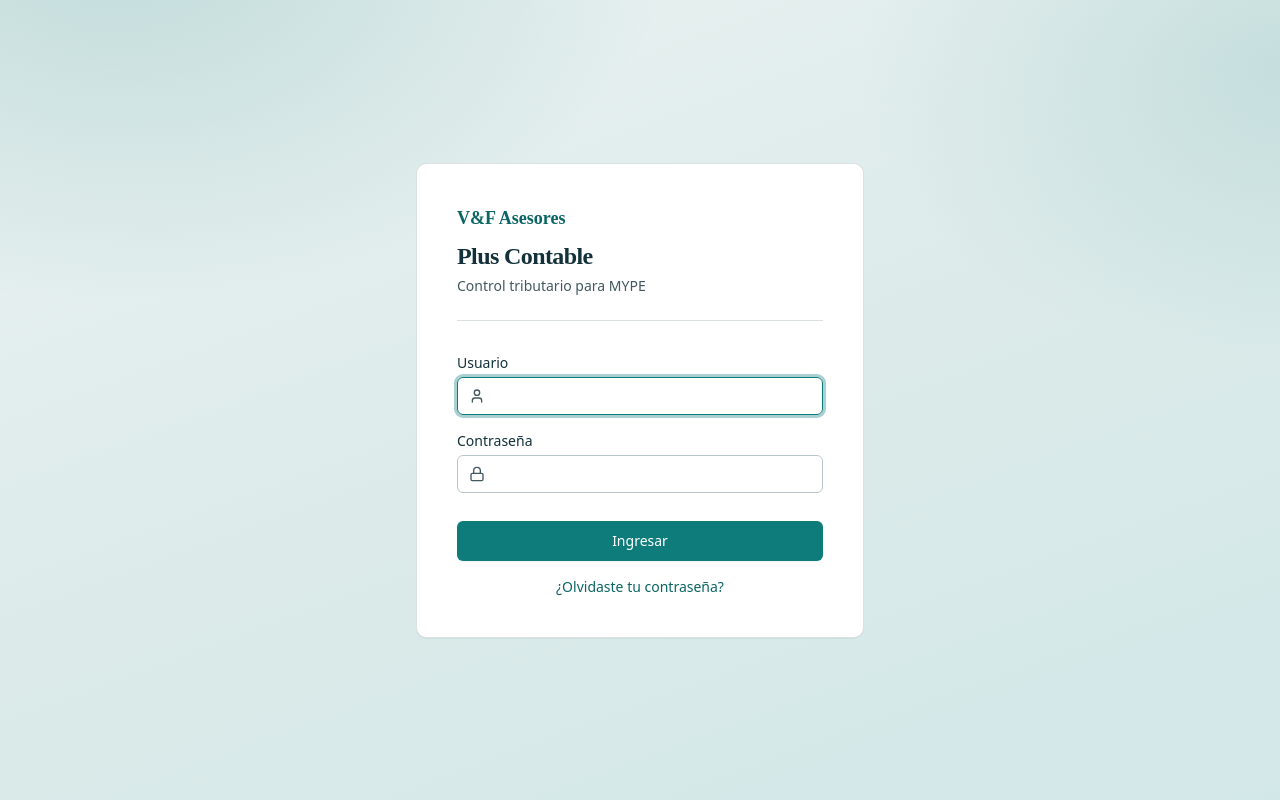
Test: el primer ingreso obliga a cambiar la contraseña (HU-37) › un ingreso con la temporal lleva a cambiar la contraseña
This screenshot has width=1280, height=800.
In the field labelled "Usuario": (640, 396) [457, 376, 823, 414], type "contacto@acme.pe"
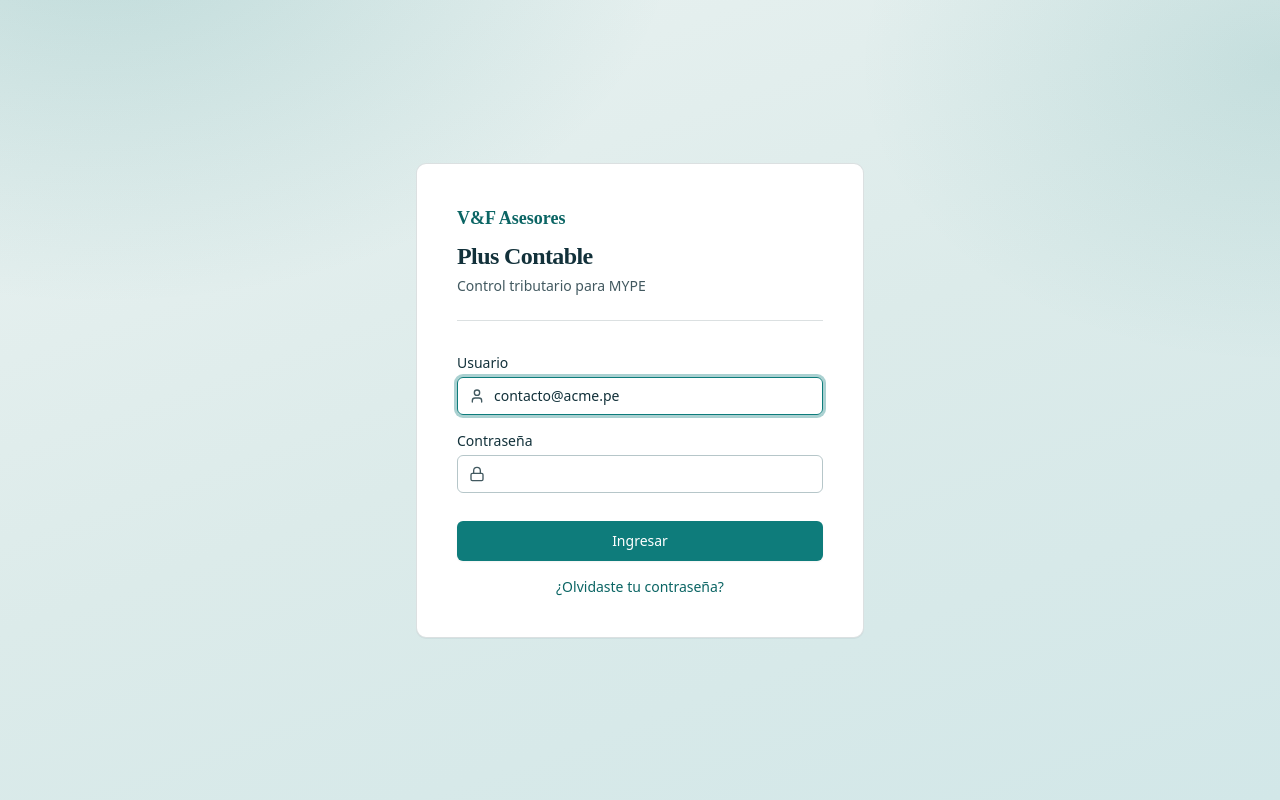
In the password field labelled "Contraseña": (640, 474) [457, 454, 823, 492], type "valor-temporal-ficticio"
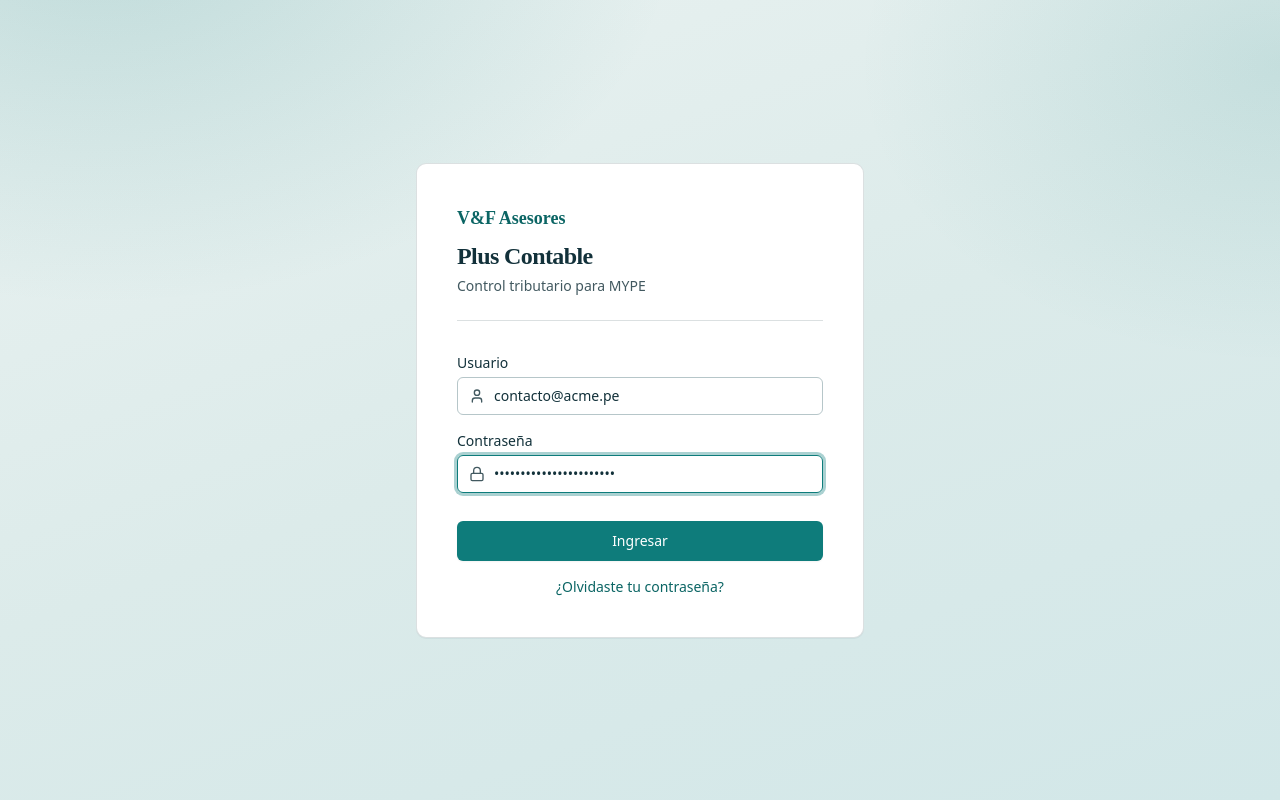
Click the button "Ingresar": (640, 540) [457, 520, 823, 560]
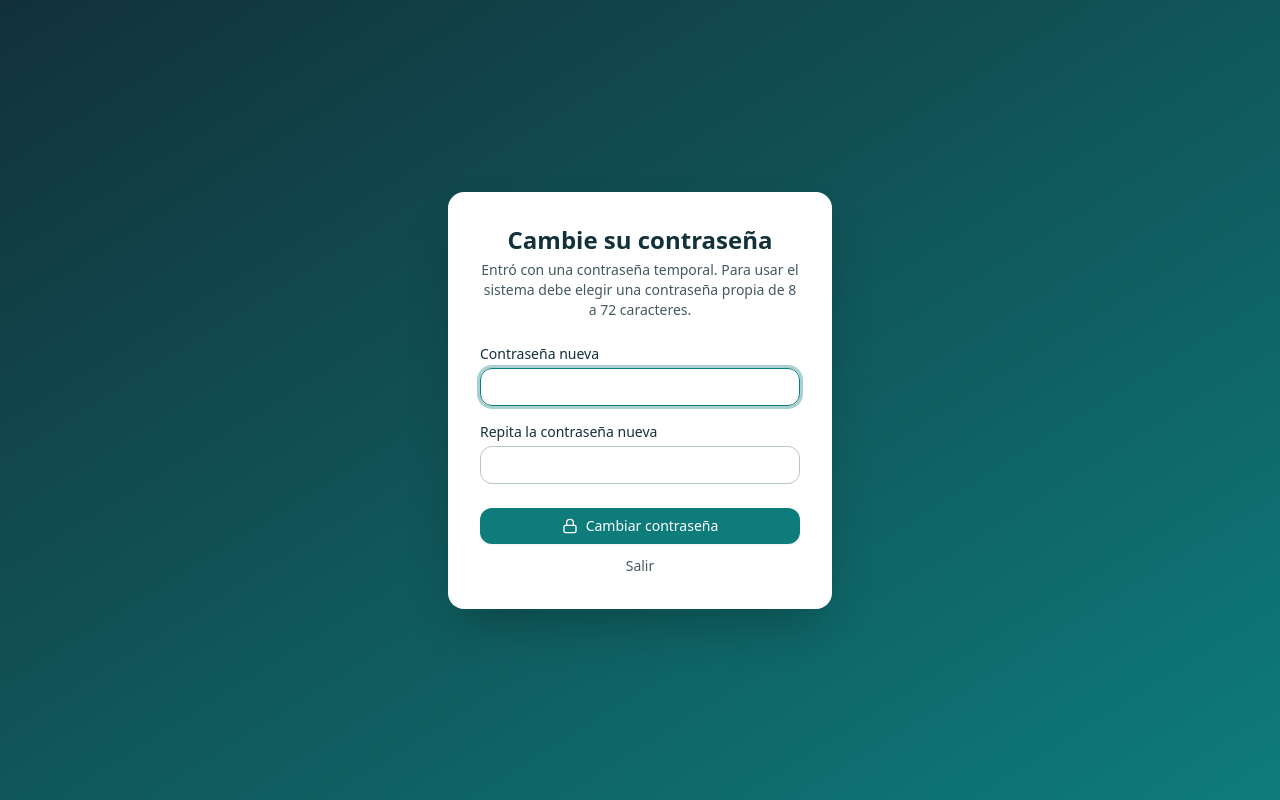
Now the heading "Cambie su contraseña" is shown, box [508, 222, 772, 256]
